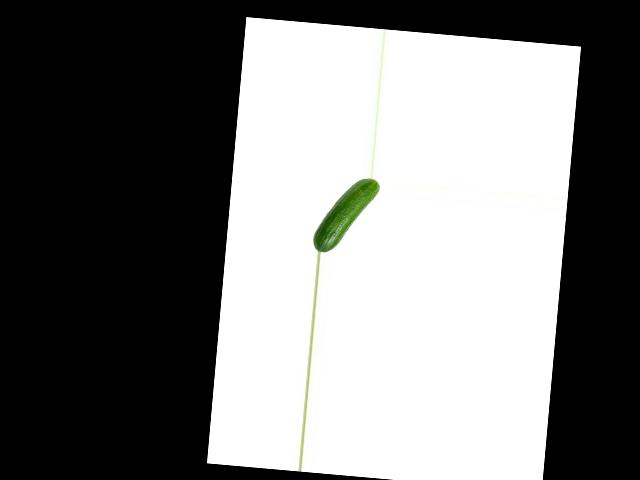cucumber: (311, 173, 379, 257)
